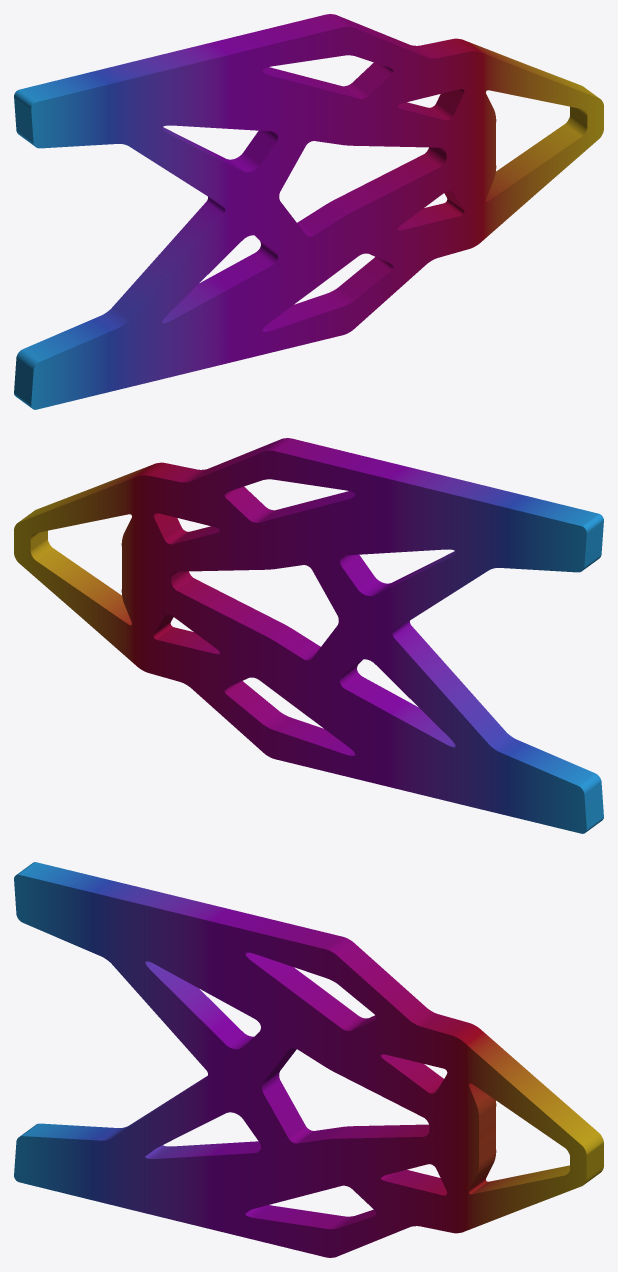
Rendered from keychain.gltf.
The picture shows the model from 3 angles, top to bottom: view 1: azimuth 30°, elevation 25°; view 2: azimuth 150°, elevation 25°; view 3: azimuth 330°, elevation 25°; orthographic projection.
Parts seen in each view (by area): view 1: Plane.010; view 2: Plane.010; view 3: Plane.010.
Part boxes in pixels (left/top/right/bottom): Plane.010: left=14, top=14, right=603, bottom=409; Plane.010: left=14, top=438, right=603, bottom=833; Plane.010: left=14, top=862, right=603, bottom=1257.
Size of the model in its own units: 1.44 by 0.7416 by 0.075.
Materials: 1 (1 with a texture image).
